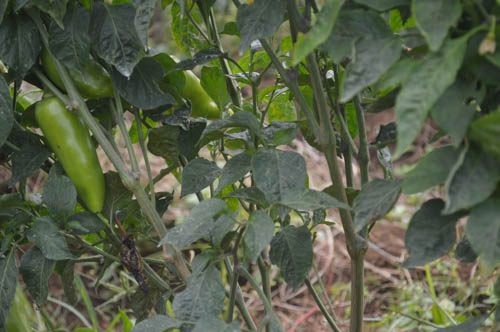ChiliPepper: (41, 99, 106, 210), (41, 46, 115, 98), (160, 66, 222, 117)
